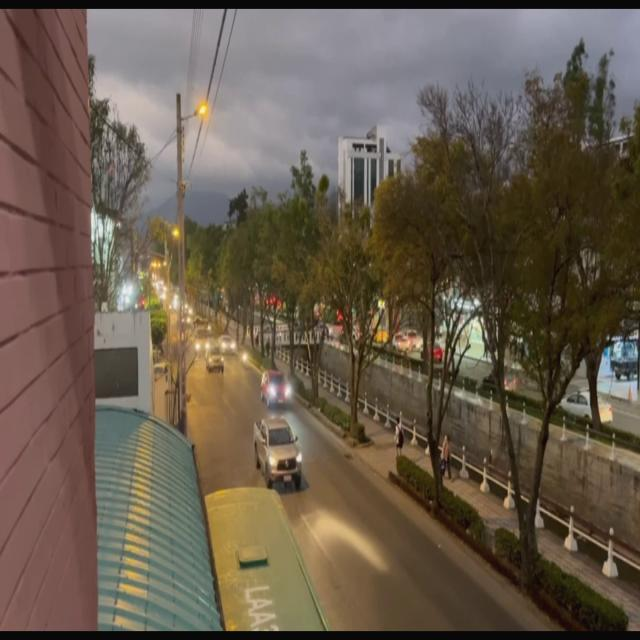CMT: (256, 418, 299, 484)
SUV: (264, 372, 288, 406)
